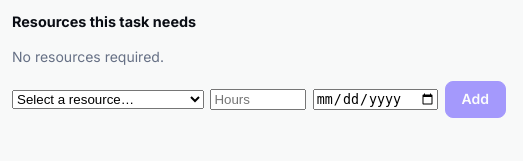
Test: TaskResources — what a task needs › reports a requirement it could not place at all
Select "RED Camera · Equipment" in the dropdown with test id "task-resource-picker" at x=108, y=100, box [12,90,204,109]
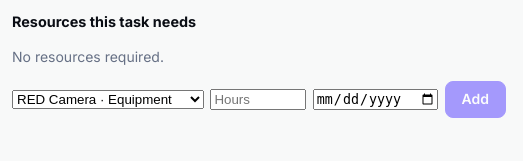
Type "3" into the number field with test id "task-resource-hours".
click(258, 100); type("3")  # box [210,89,306,110]
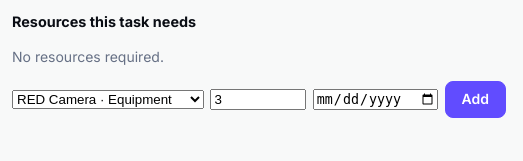
Click the button with test id "task-resource-add-submit".
click(475, 100)  # box [444,81,506,118]
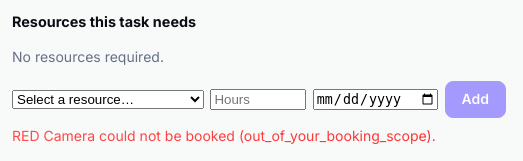
Check: the element with test id "requirement-outcome" shows "could not be booked", box [12,127,436,144]
